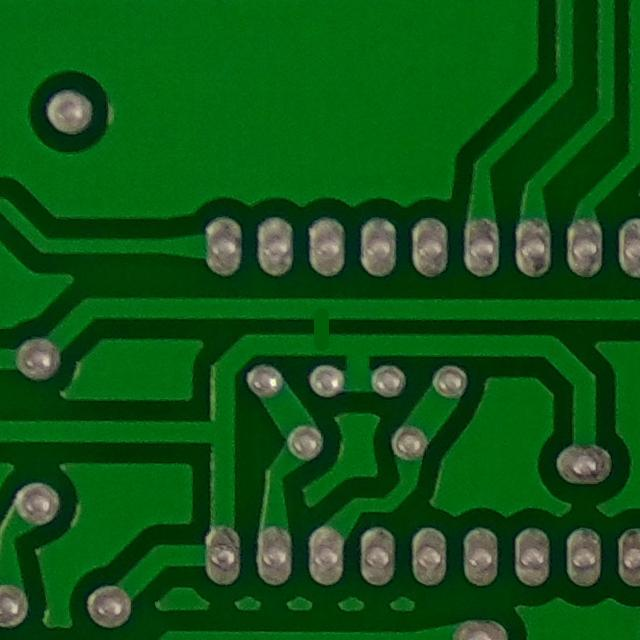short: (292, 284, 348, 357)
